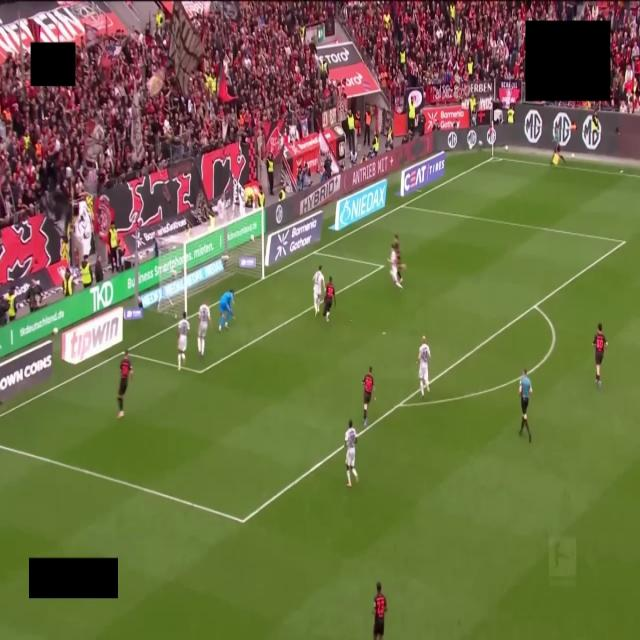ball: (251, 234, 254, 241)
player: (118, 351, 132, 417), (593, 324, 607, 388), (345, 420, 358, 487), (373, 582, 387, 639), (418, 336, 430, 398), (178, 312, 189, 370), (198, 304, 210, 356), (219, 290, 234, 331), (363, 367, 373, 428), (313, 265, 325, 315), (389, 245, 402, 288), (323, 276, 335, 321), (394, 234, 404, 284)
referee: (519, 369, 532, 443)
